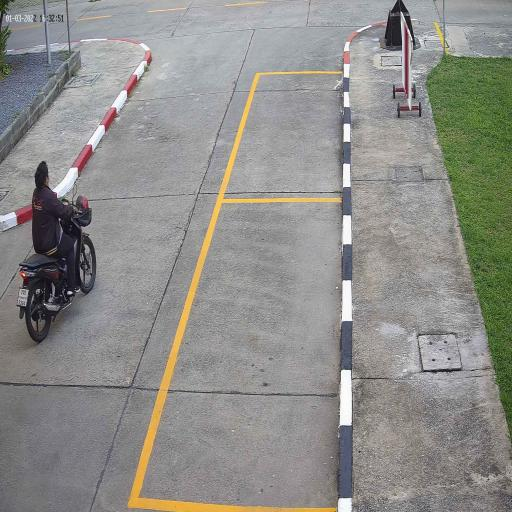motorcycle: (16, 232, 99, 345)
